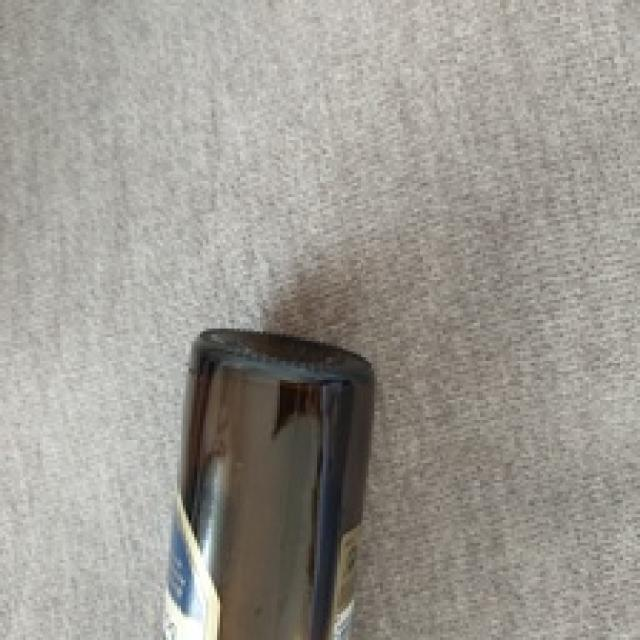Glass: (169, 326, 375, 640)
